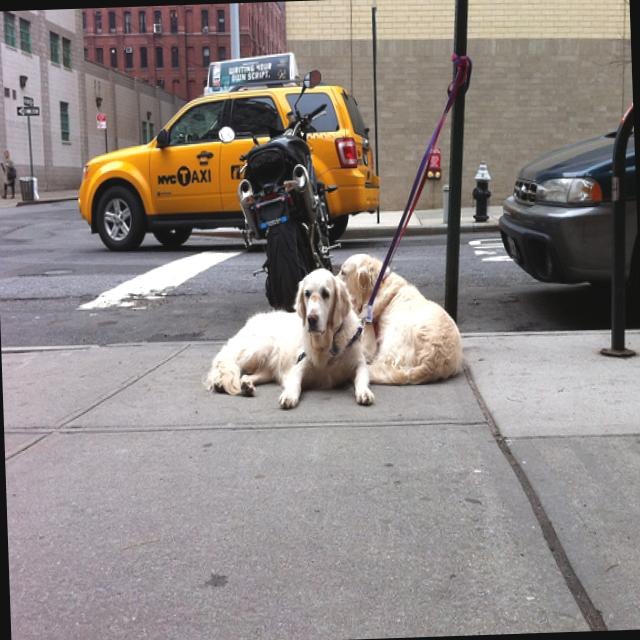Vehicle: (74, 72, 386, 251), (493, 108, 640, 333), (236, 63, 338, 316)
